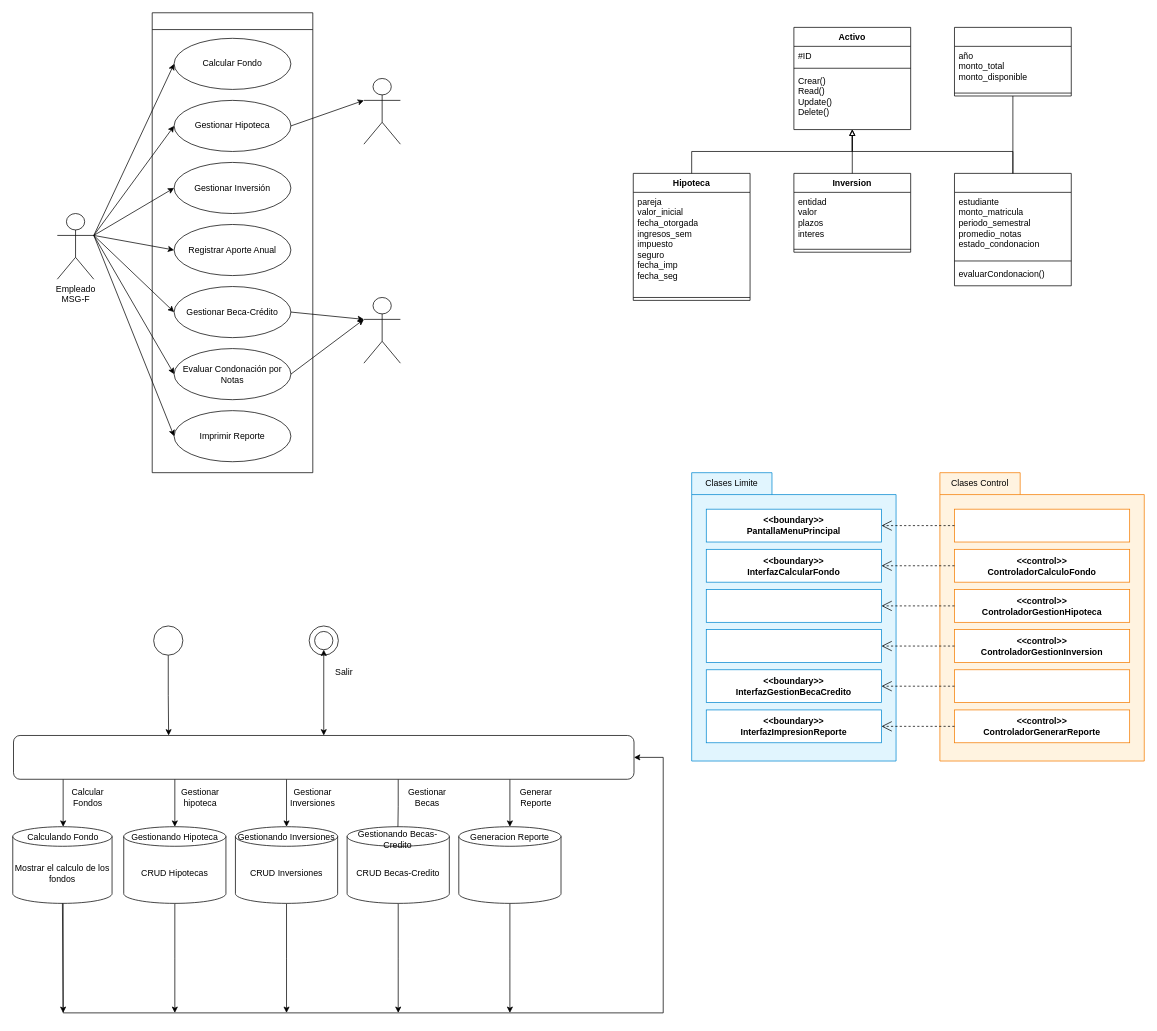
This 1157x1031 diagram has some shape labels left out. The shapes that lost their labels are listed below. From the top down, each one's box as (x1, y1, x2, y2) in pixels, then its label:
(954, 27, 1071, 96): AporteAnual
(363, 78, 400, 144): Deudor (Pareja)
(151, 12, 313, 473): MSG-F
(954, 173, 1071, 286): BecaCredito
(363, 297, 400, 363): Estudiante
(954, 508, 1130, 542): <<control>> GestorLoopSistema
(706, 589, 881, 622): <<boundary>> InterfazGestionHipoteca
(706, 629, 881, 662): <<boundary>> InterfazGestionInversion
(954, 669, 1130, 703): <<control>> ControladorGestionBecaCredito
(13, 735, 634, 779): Ejecución del Sistema (Loop - bucle del sistema)
(458, 826, 561, 903): Generar e Imprimir
